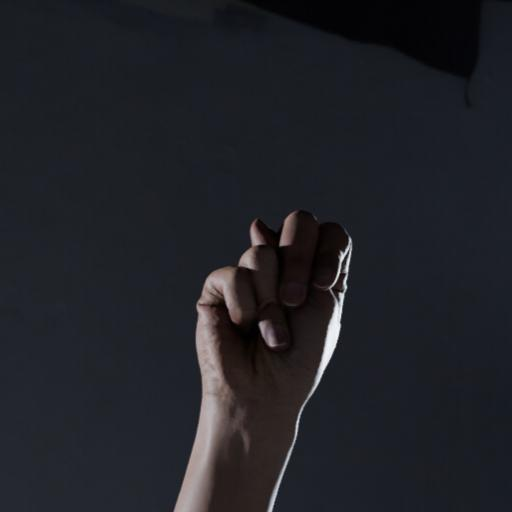N: (166, 192, 365, 508)
